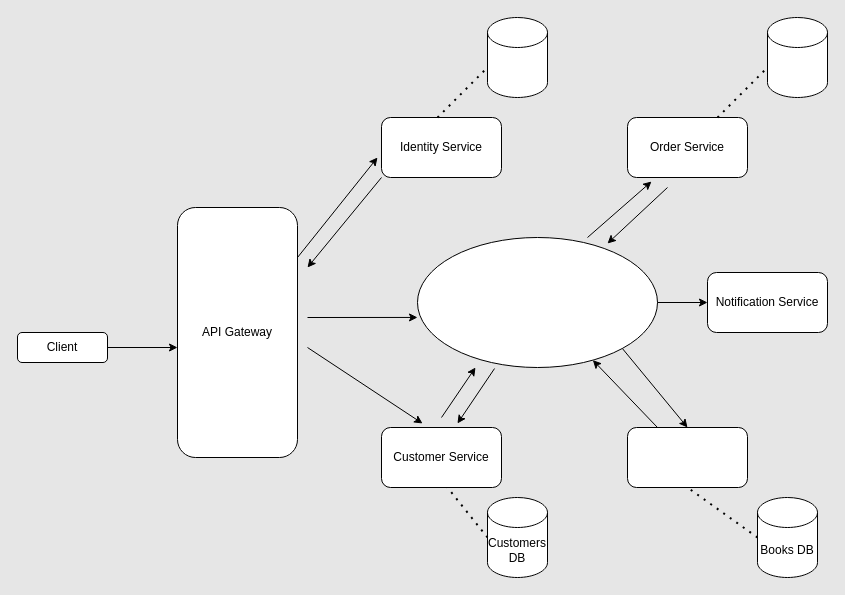
The diagram is 845 pixels wide and 595 high, and some of its shapes have lost their labels. The centre of each missing label's shape, as x and y in pixels:
"Book Service" belongs at (x=687, y=457).
"Identity DB" belongs at (x=517, y=57).
"Orders DB" belongs at (x=797, y=57).
"RabbitMQ" belongs at (x=537, y=302).
